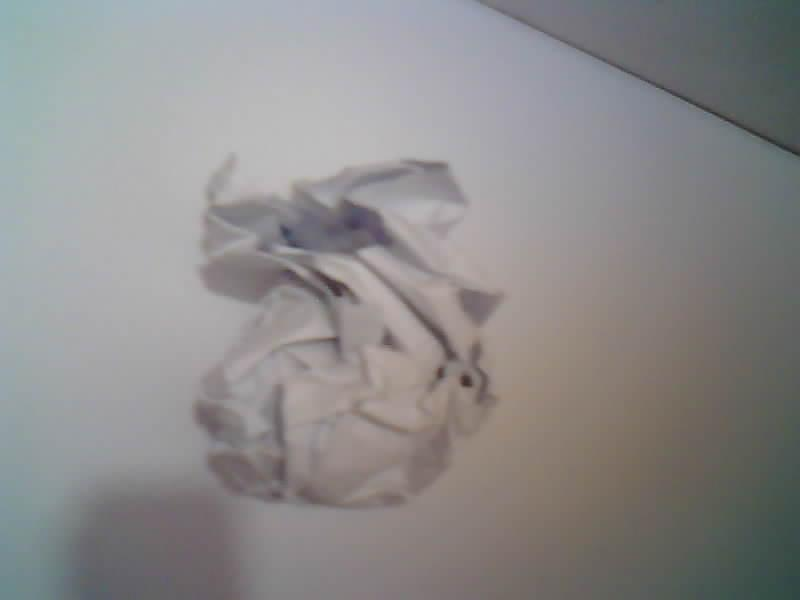biodegradable: (195, 159, 502, 506)
